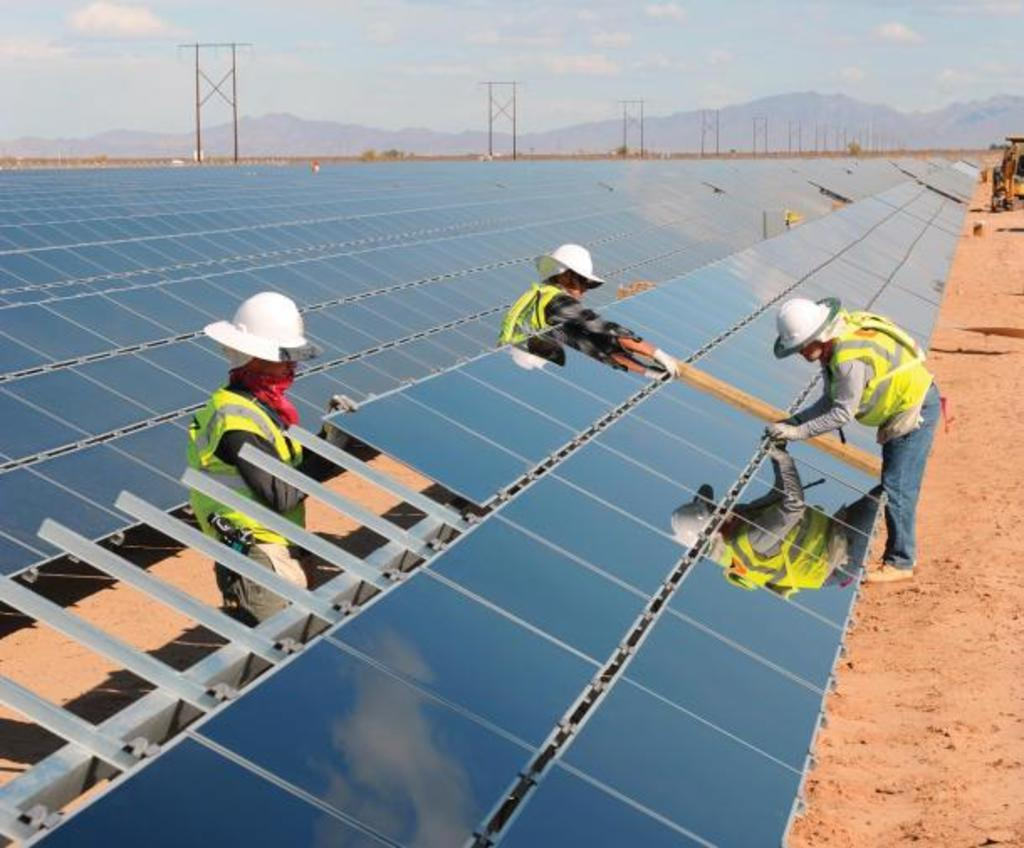Hat: (202, 288, 320, 374), (773, 296, 837, 357), (534, 238, 606, 291)
